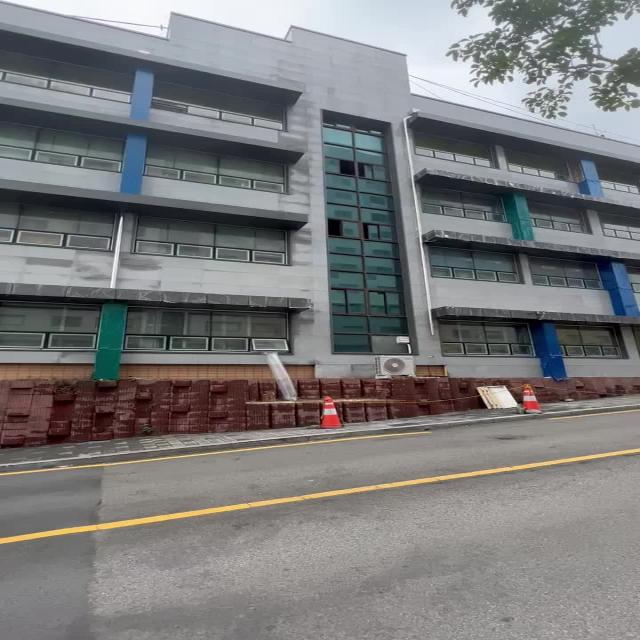building: (23, 31, 640, 393)
